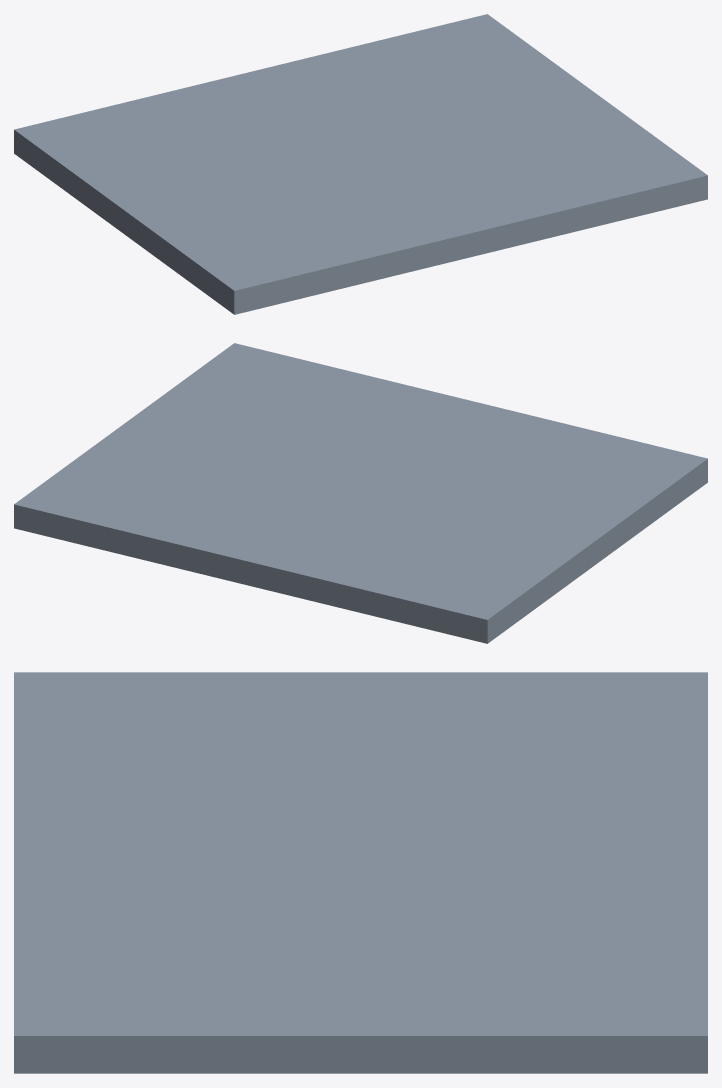
File: safety_door_l1.glb
The picture shows the model from 3 angles, top to bottom: view 1: azimuth 30°, elevation 25°; view 2: azimuth 150°, elevation 25°; view 3: azimuth 270°, elevation 25°; orthographic projection. The views are drawn at different scales.
Parts seen in each view (by area): view 1: SAFETY_DOOR; view 2: SAFETY_DOOR; view 3: SAFETY_DOOR.
Part boxes in pixels (box(x1,y1,x2,y2)): SAFETY_DOOR: box(14, 14, 707, 314); SAFETY_DOOR: box(14, 343, 707, 643); SAFETY_DOOR: box(14, 672, 707, 1073).
Bounding box in the file's own units: 0.62 × 0.05 × 0.5.
